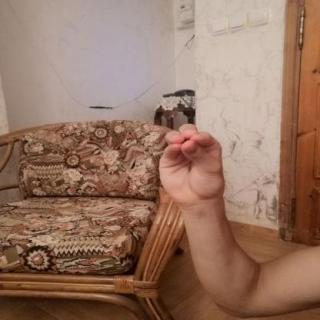HA: (141, 113, 245, 218)
